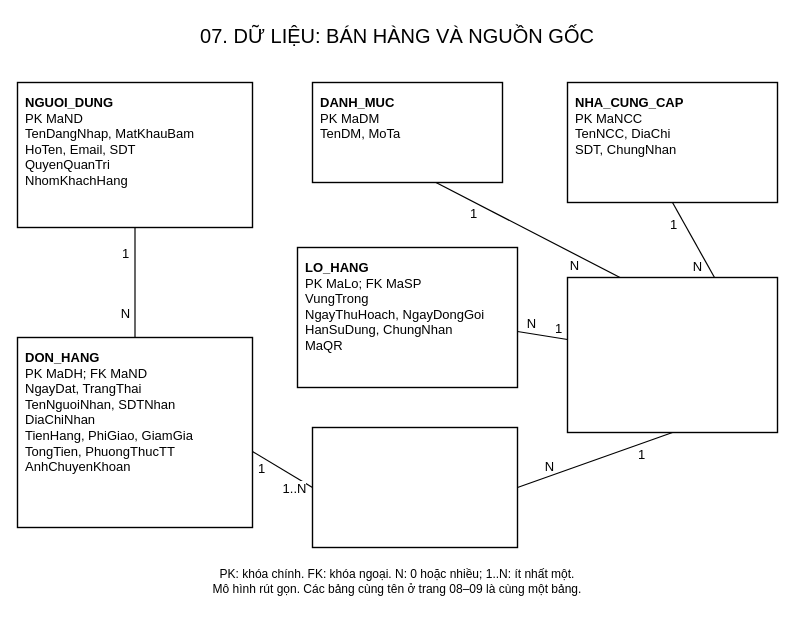
This 796x617 diagram has some shape labels left out. The centre of each missing label's shape, as x and y in pixels:
CT_DON_HANG PK MaCTDH FK MaDH, MaSP TenSPLucMua, SoLuong DonGia, ThanhTien: [414,487]
SAN_PHAM PK MaSP FK MaDM, MaNCC TenSP, GiaBan DonViTinh, TonKho XuatXu: [672,354]
